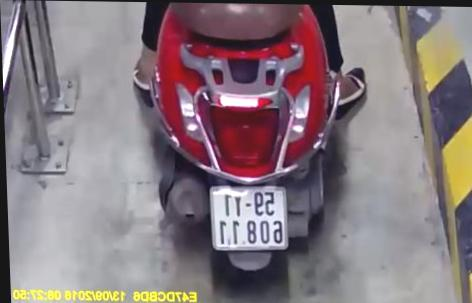License_Plate: (205, 180, 293, 252)
